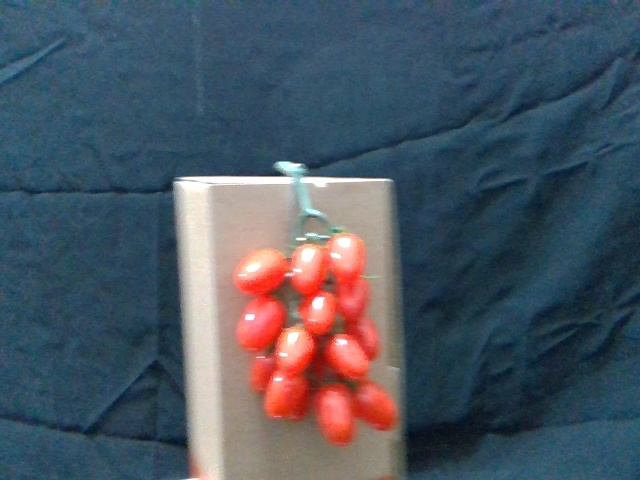tomato: (237, 294, 287, 352), (317, 384, 359, 451), (239, 249, 291, 299), (324, 332, 371, 387), (352, 379, 399, 432), (289, 245, 332, 300), (265, 373, 311, 422), (275, 325, 318, 376), (328, 232, 368, 282), (332, 275, 371, 322), (347, 317, 382, 363), (302, 291, 336, 338), (247, 353, 279, 393)
